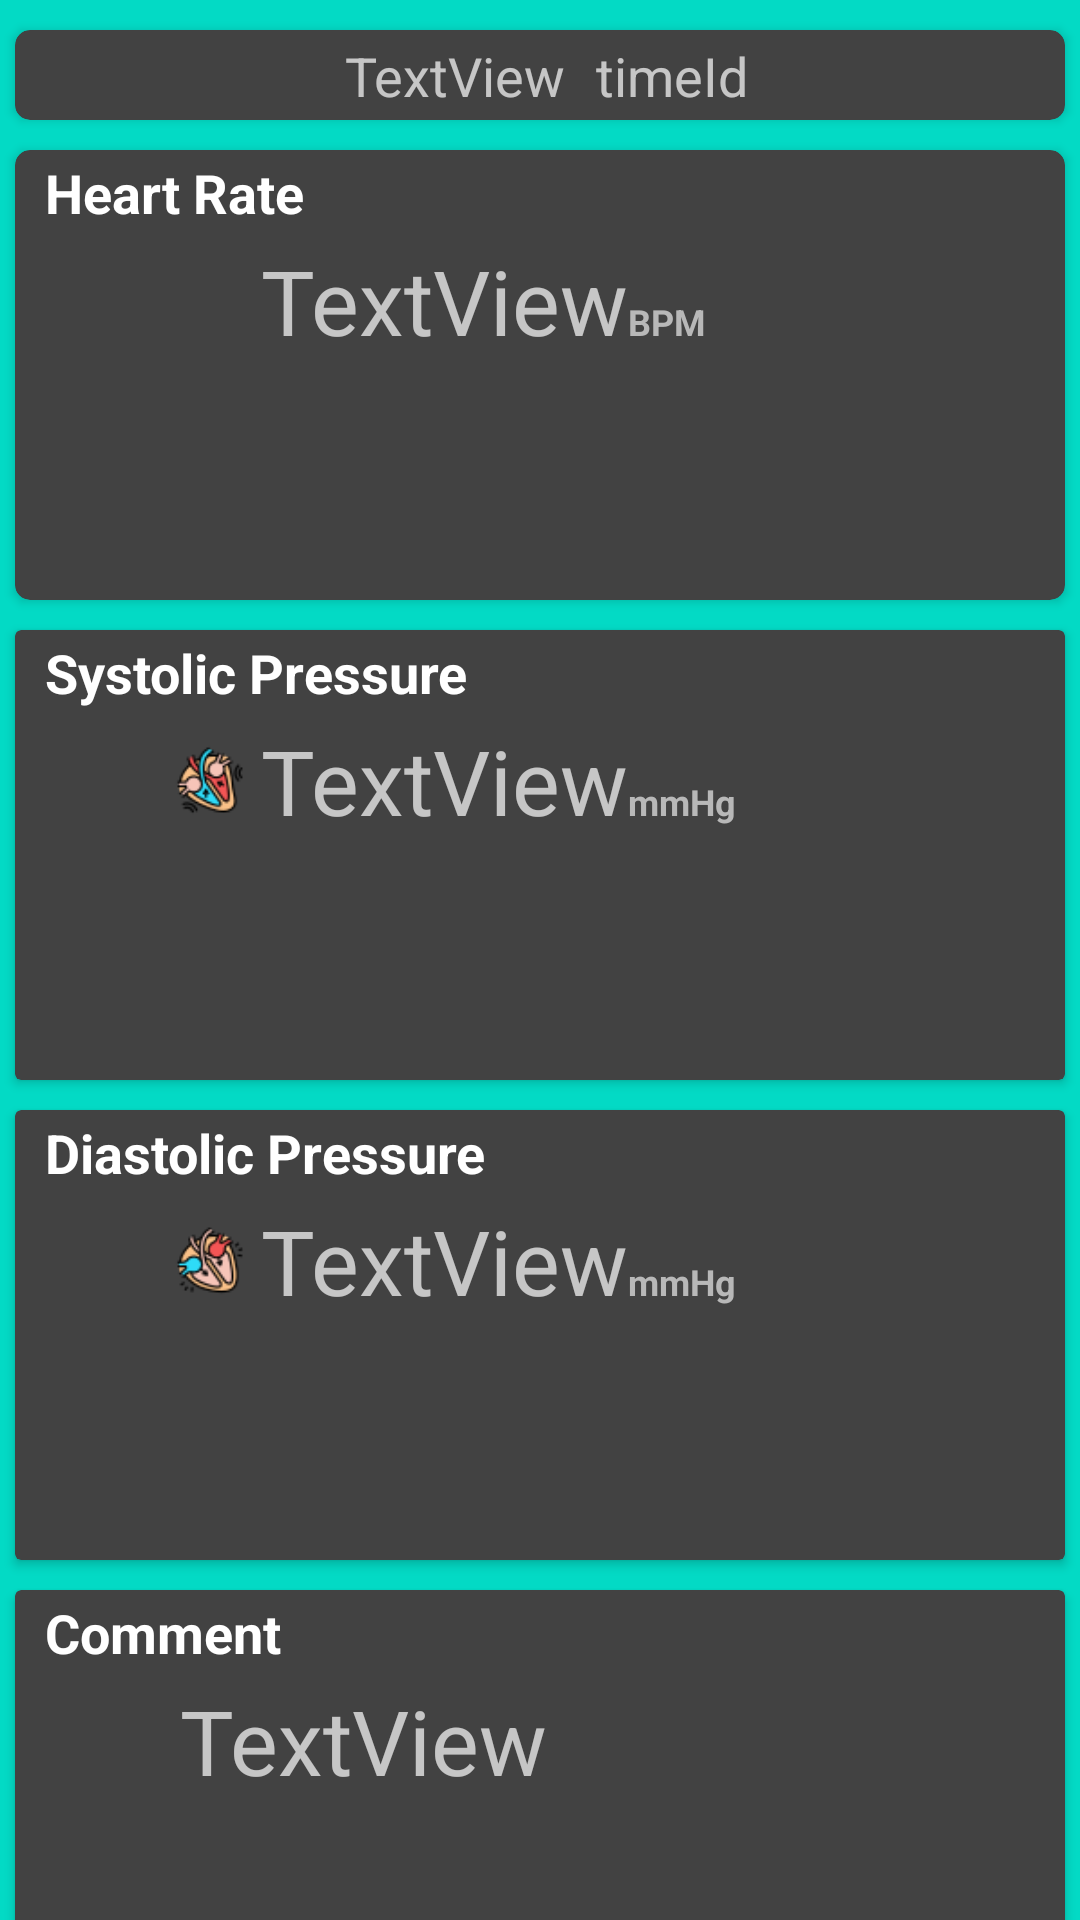

Named icons in this screenshot (1080w x 1920h) and their centers, point (x, y):
diastole: point (209, 1260)
systole: point (209, 780)
